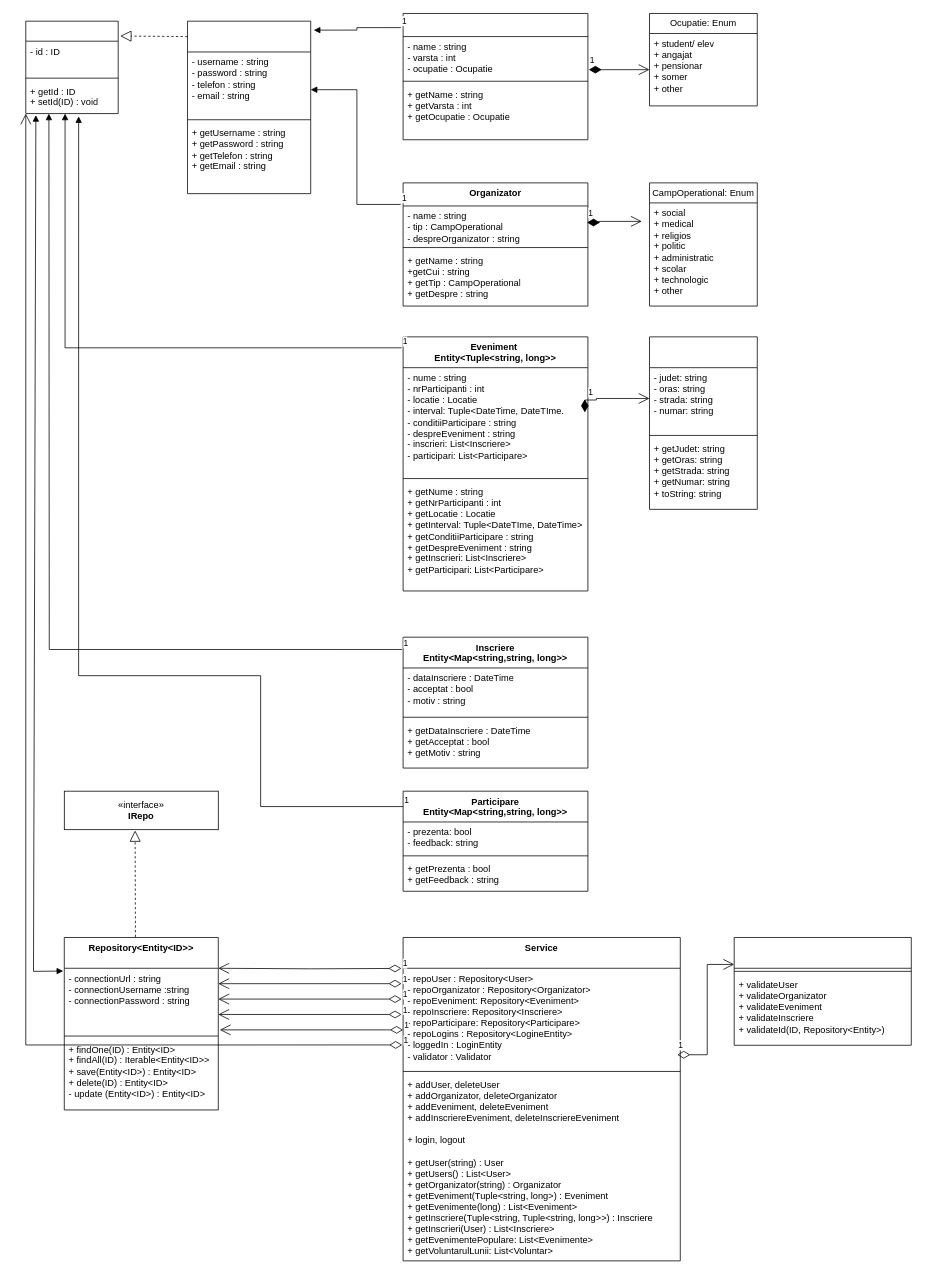
Some shapes in this 925 by 1277 pixel diagram are drawn without their labels. The box of each missing label's shape, as (x1, y1, x2, y2) in pixels:
Entity<ID>: (25, 20, 118, 114)
Locatie: (649, 336, 757, 509)
LoginEntity Entity<string>: (187, 20, 311, 194)
User: (402, 13, 588, 140)
Validator: (733, 937, 911, 1045)
